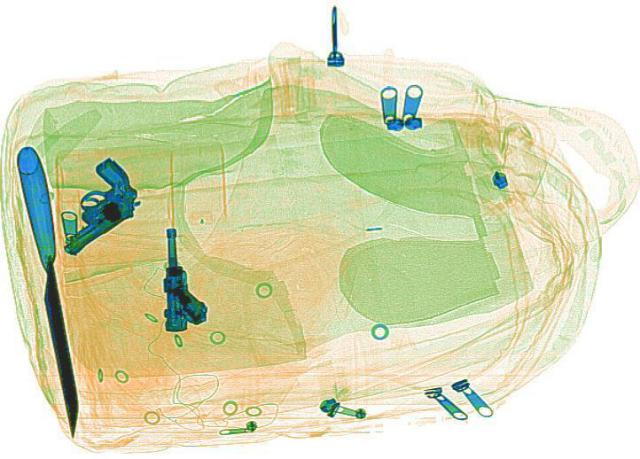Gun: (16, 155, 164, 252), (160, 227, 207, 330)
Knife: (15, 146, 87, 435)
